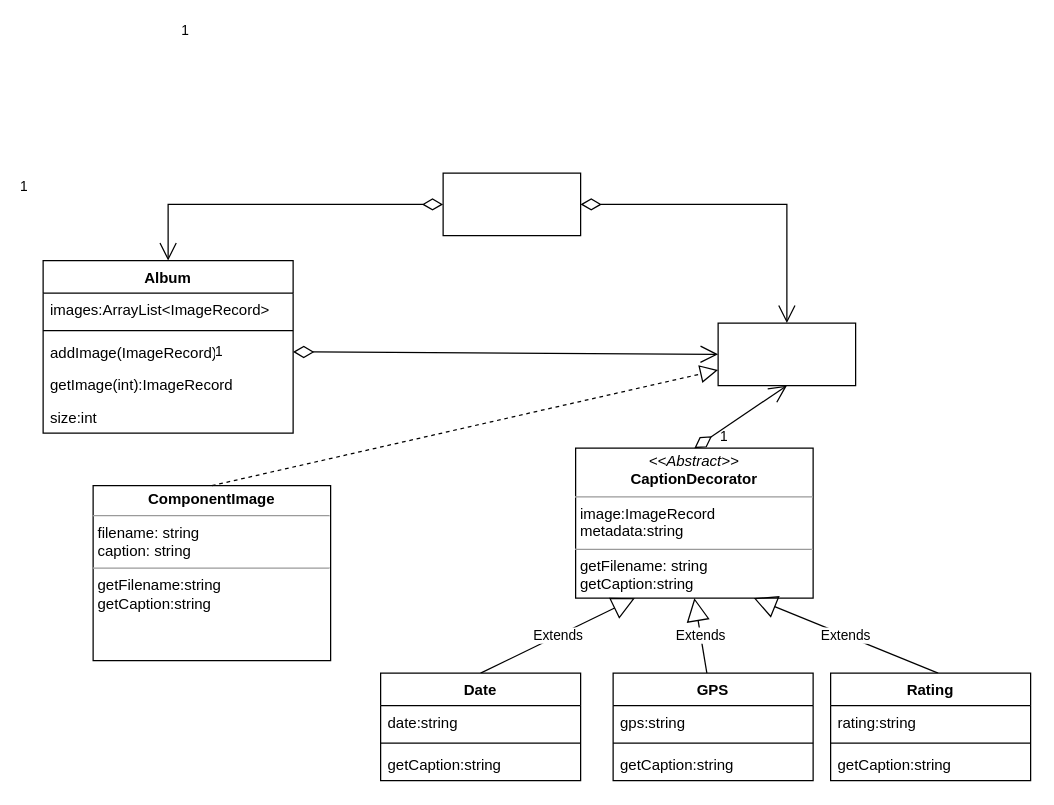
Some shapes in this 1054 by 805 pixel diagram are drawn without their labels. The shapes that lost their labels are listed below. From the top down, each one's centre as x and y in pixels, then its label:
At point (511, 204): "ImageViewer".
At point (786, 354): "«interface» ImageRecord".
